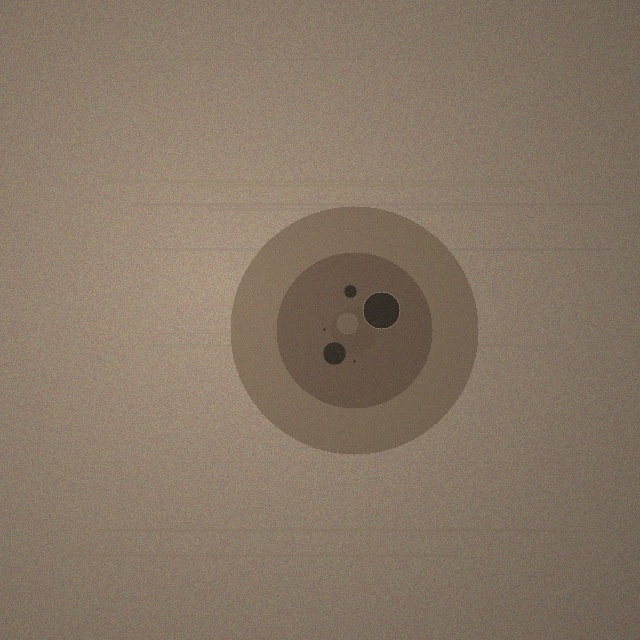shrinkage: (230, 206, 478, 454)
